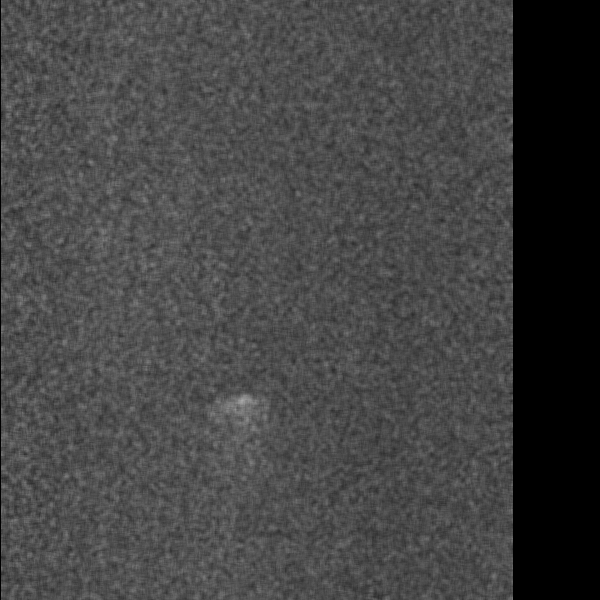spark: (213, 392, 260, 448)
